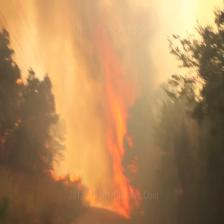fire: (83, 40, 158, 224)
